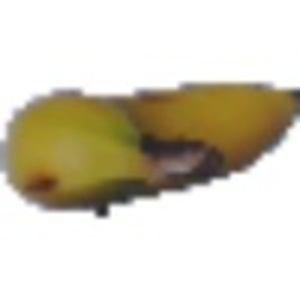banana: (1, 68, 295, 212)
